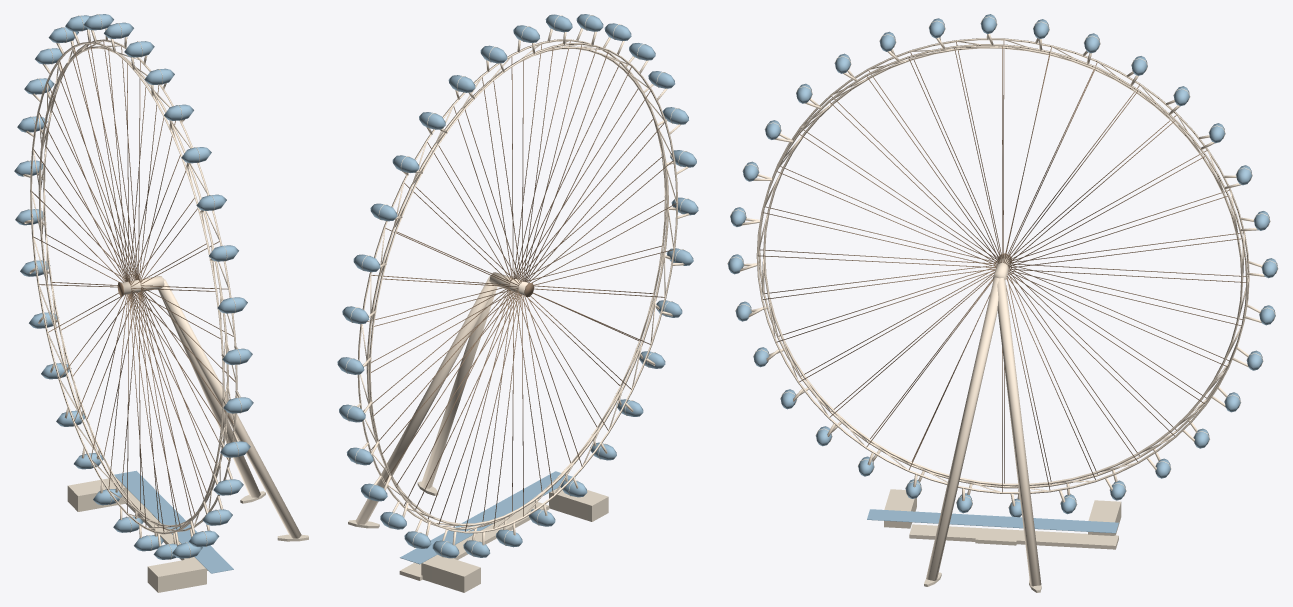
3 views of the same model, side by side, from view 1: azimuth 30°, elevation 25°; view 2: azimuth 150°, elevation 25°; view 3: azimuth 270°, elevation 25° (orthographic). The views are drawn at different scales.
Parts seen in each view (by area): view 1: trim, metal, glass, stone; view 2: trim, metal, glass, stone; view 3: trim, metal, glass, stone.
Part boxes in pixels (box(x1,y1,x2,y2)): trim: box(23, 14, 301, 559); metal: box(31, 41, 235, 532); glass: box(14, 14, 253, 573); stone: box(67, 478, 308, 592); trim: box(345, 15, 689, 557); metal: box(363, 41, 676, 531); glass: box(337, 14, 698, 564); stone: box(348, 481, 608, 592); trim: box(727, 16, 1278, 586); metal: box(758, 40, 1247, 492); glass: box(728, 14, 1277, 533); stone: box(884, 489, 1121, 592).
Bounding box in the file's own units: 53.77 × 135 × 134.
